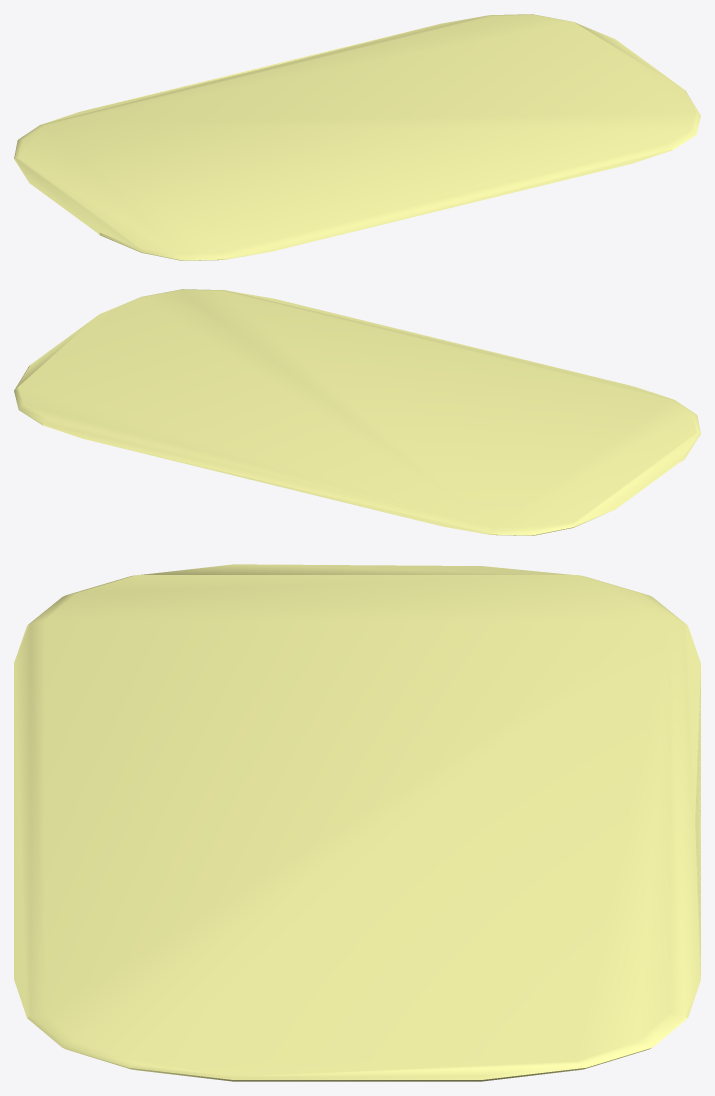
The model's file is alfombra.fbx.
The picture shows the model from 3 angles, top to bottom: view 1: azimuth 30°, elevation 25°; view 2: azimuth 150°, elevation 25°; view 3: azimuth 270°, elevation 25°; orthographic projection. The views are drawn at different scales.
Parts seen in each view (by area): view 1: alfombra; view 2: alfombra; view 3: alfombra.
Part boxes in pixels (<box>): alfombra: <box>14,14,700,260</box>; alfombra: <box>14,289,700,535</box>; alfombra: <box>14,564,700,1081</box>.
Bounding box in the file's own units: 168 × 1.65 × 95.07.
